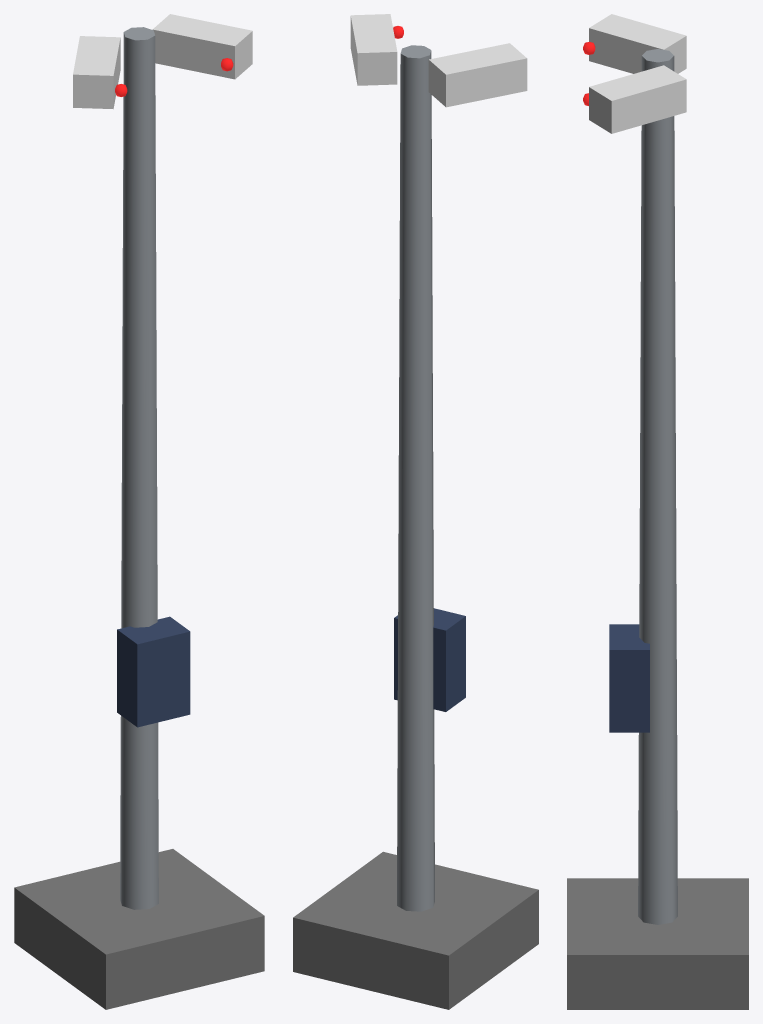
Rendered from prop_camera_mast.glb.
3 views of the same model, side by side, from view 1: azimuth 30°, elevation 25°; view 2: azimuth 150°, elevation 25°; view 3: azimuth 270°, elevation 25° (orthographic).
Bounding box in the file's own units: 1.02 × 5 × 0.9.
